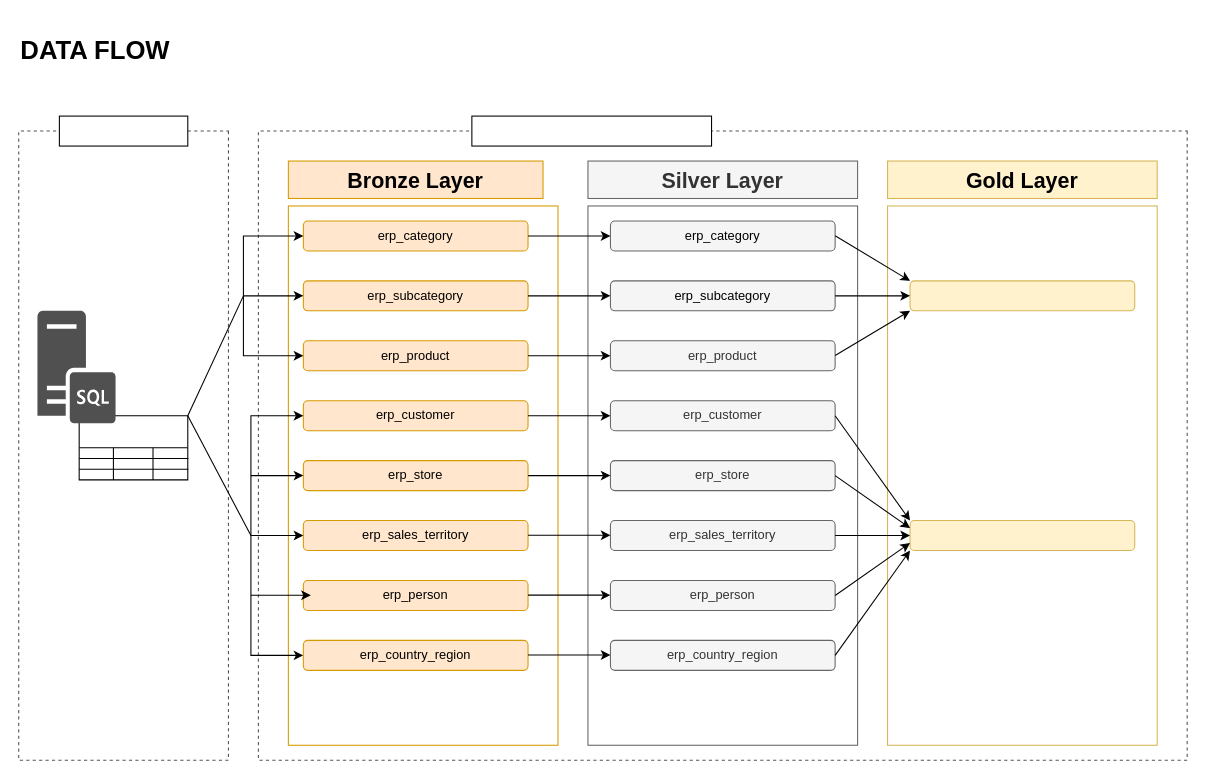
Image size: 1206x779. Some labels were removed from this diagram. Each missing label, with the centre of its shape:
"Data Warehouse" goes at point 591,130.
"dim_customer" goes at point 1022,535.
"dim_product" goes at point 1022,295.
"ERP" goes at point 133,447.
"Sources" goes at point 123,130.
